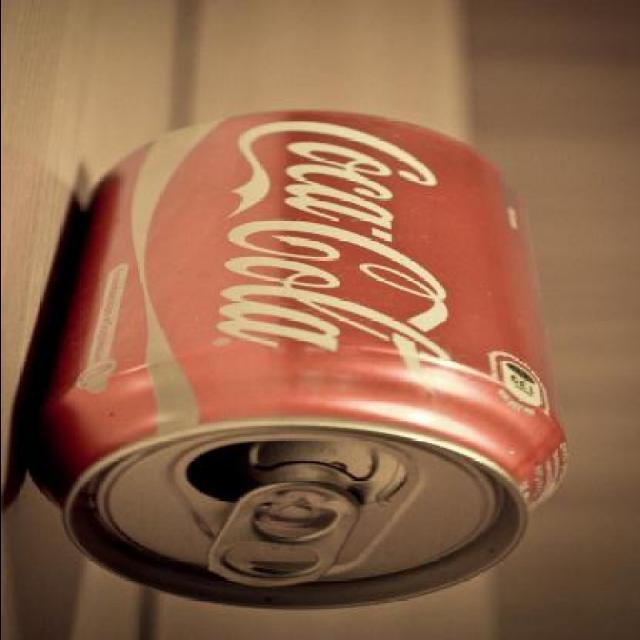Coke: (20, 107, 571, 613)
